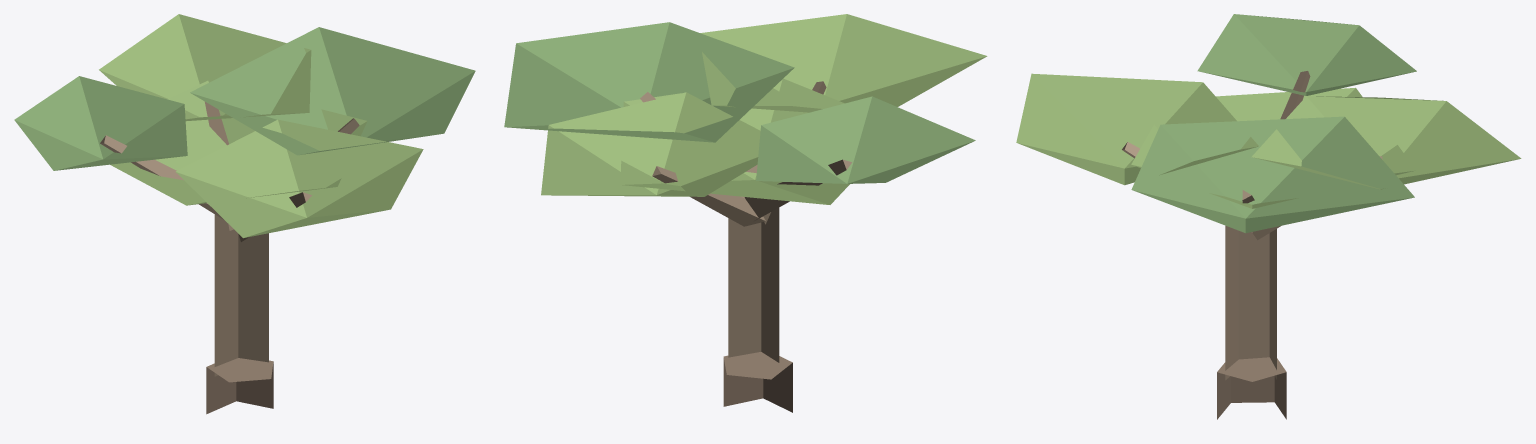
Rendered from tree.sub.acacia__spring.glb.
3 renders of one model, left to right at view 1: azimuth 30°, elevation 25°; view 2: azimuth 150°, elevation 25°; view 3: azimuth 270°, elevation 25°, orthographic. The views are drawn at different scales.
Parts seen in each view (by area): view 1: tree.sub.acacia__spring; view 2: tree.sub.acacia__spring; view 3: tree.sub.acacia__spring.
Boxes of the visible parts, bbox=[...] form: tree.sub.acacia__spring: bbox=[14, 14, 475, 414]; tree.sub.acacia__spring: bbox=[504, 14, 987, 412]; tree.sub.acacia__spring: bbox=[1016, 14, 1521, 419].
Size of the model in its own units: 8.67 by 6.51 by 8.79.
